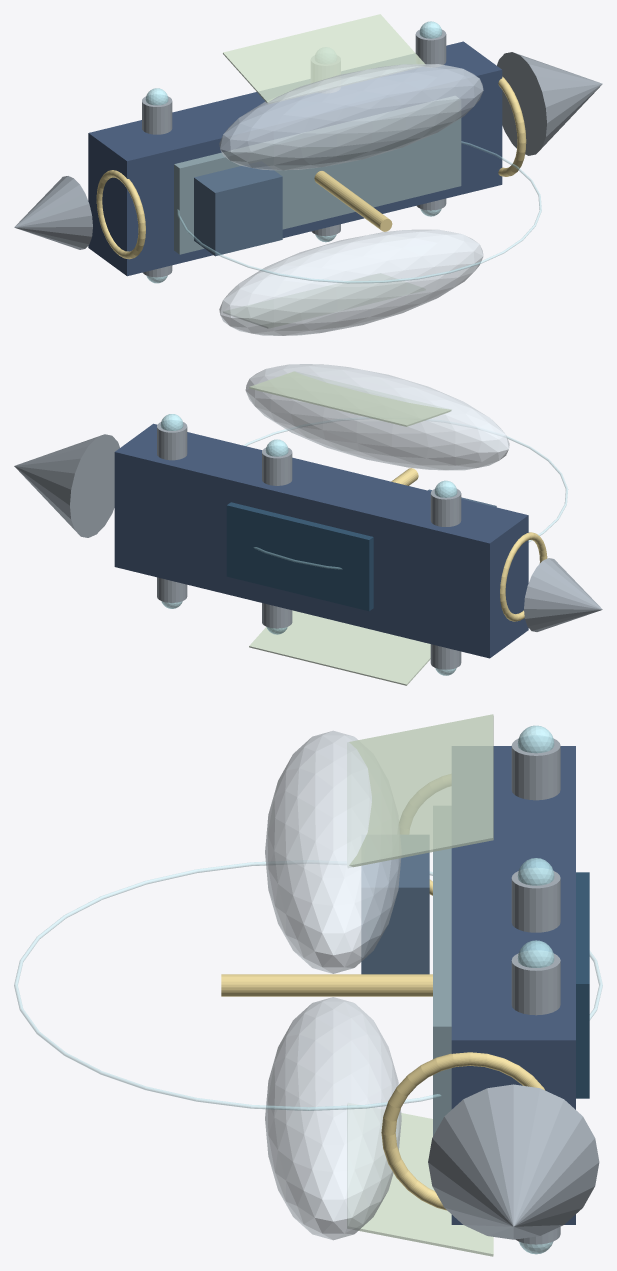
Rendered from SKYSHIP_11_STORMCROWN_DREADNOUGHT_stormcrown_dreadnought.glb.
3 renders of one model, top to bottom at view 1: azimuth 30°, elevation 25°; view 2: azimuth 150°, elevation 25°; view 3: azimuth 270°, elevation 25°, orthographic. The views are drawn at different scales.
Visible parts, largest first — view 1: aetherwood_hull, upper_deck, left_aether_cell, right_aether_cell, right_lift_sail, command_cabin, forward_ram, left_lift_sail, stern_finial, aether_shield_ring, stern_docking_ring, central_mast (+4 smaller); view 2: aetherwood_hull, right_aether_cell, lower_hangar_bay, left_lift_sail, forward_ram, right_lift_sail, stern_finial, right_thruster_-3.14, right_thruster_3.40, right_thruster_0.90, stern_docking_ring, aether_shield_ring (+3 smaller); view 3: aetherwood_hull, left_aether_cell, right_aether_cell, forward_ram, right_lift_sail, left_lift_sail, command_cabin, upper_deck, central_mast, forward_docking_ring, aether_shield_ring, lower_hangar_bay (+7 smaller).
Part boxes in pixels (x1,y1,x2,y2): aetherwood_hull: [88, 41, 502, 276]; upper_deck: [174, 96, 461, 254]; left_aether_cell: [219, 229, 483, 335]; right_aether_cell: [219, 64, 483, 170]; right_lift_sail: [223, 14, 425, 103]; command_cabin: [194, 161, 282, 256]; forward_ram: [497, 52, 602, 155]; left_lift_sail: [223, 273, 425, 328]; stern_finial: [14, 176, 92, 249]; aether_shield_ring: [177, 141, 541, 283]; stern_docking_ring: [96, 170, 145, 259]; central_mast: [314, 171, 392, 231]; aetherwood_hull: [114, 423, 528, 658]; right_aether_cell: [245, 364, 509, 470]; lower_hangar_bay: [226, 502, 373, 611]; left_lift_sail: [249, 610, 430, 685]; forward_ram: [14, 434, 119, 537]; right_lift_sail: [249, 371, 451, 426]; stern_finial: [524, 558, 602, 631]; right_thruster_-3.14: [430, 487, 461, 526]; right_thruster_3.40: [157, 420, 187, 460]; right_thruster_0.90: [262, 446, 292, 485]; stern_docking_ring: [500, 532, 547, 621]; aether_shield_ring: [243, 429, 568, 569]; aetherwood_hull: [451, 746, 575, 1224]; left_aether_cell: [265, 997, 401, 1240]; right_aether_cell: [265, 730, 401, 973]; forward_ram: [428, 1084, 599, 1239]; right_lift_sail: [347, 714, 493, 867]; left_lift_sail: [347, 1103, 493, 1256]; command_cabin: [361, 835, 429, 974]; upper_deck: [433, 806, 451, 1135]; central_mast: [221, 974, 432, 996]; forward_docking_ring: [381, 1052, 545, 1210]; aether_shield_ring: [14, 861, 602, 1110]; lower_hangar_bay: [576, 872, 589, 1098].
Size of the model in its own units: 14.07 by 5.95 by 7.58.
